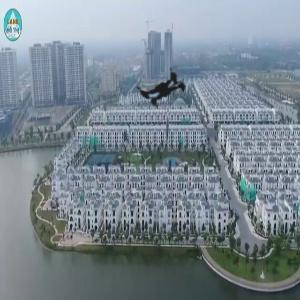drone: (98, 22, 234, 158)
